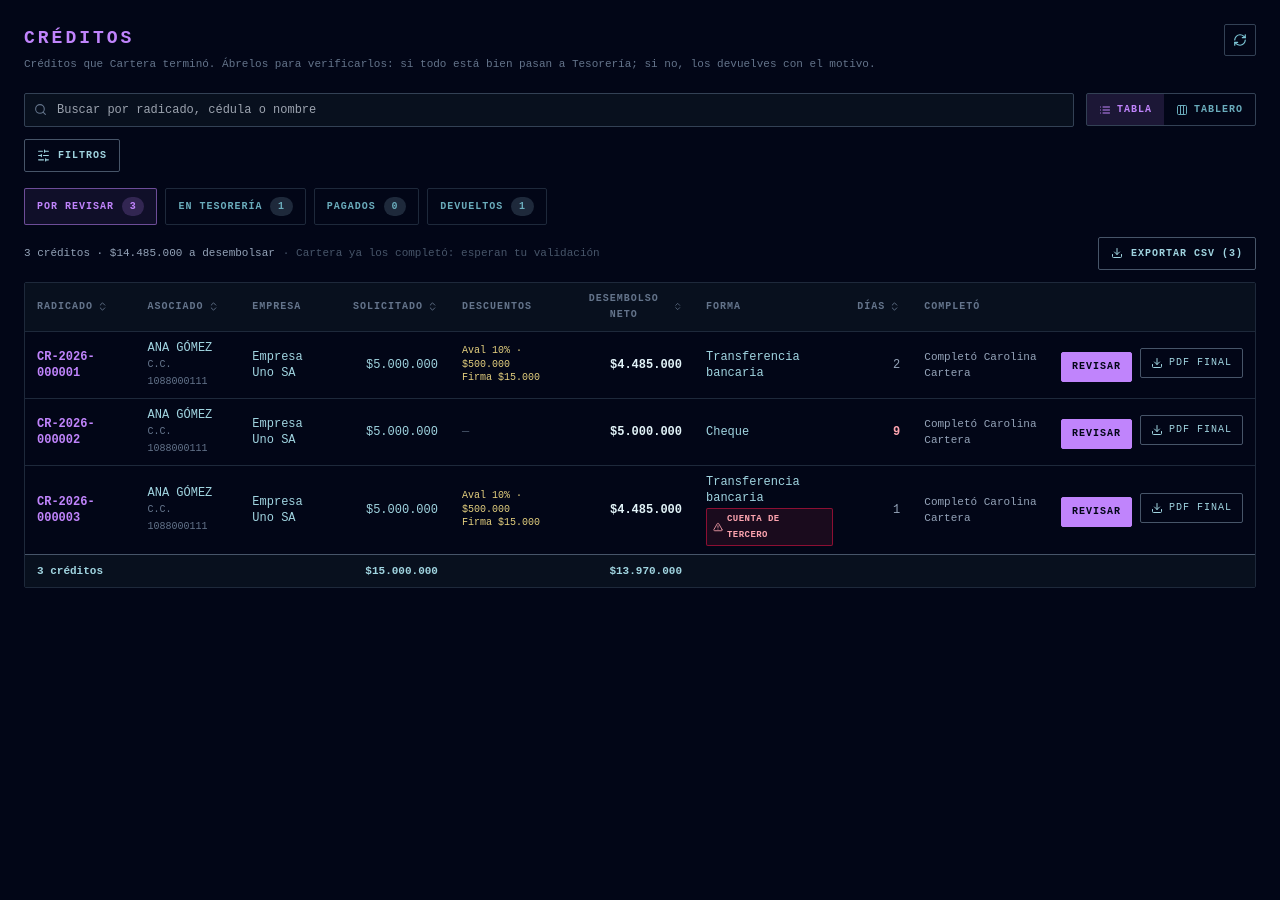
Test: Control Interno — bandeja: búsqueda y filtros › ofrece asesor y "días en Control Interno", pero no estado ni "requiere mi acción"
Expected: the link "CR-2026-000001" is shown, [37,350,95,380]
Click the button "FILTROS".
click(72, 155)  # box [24,138,120,172]
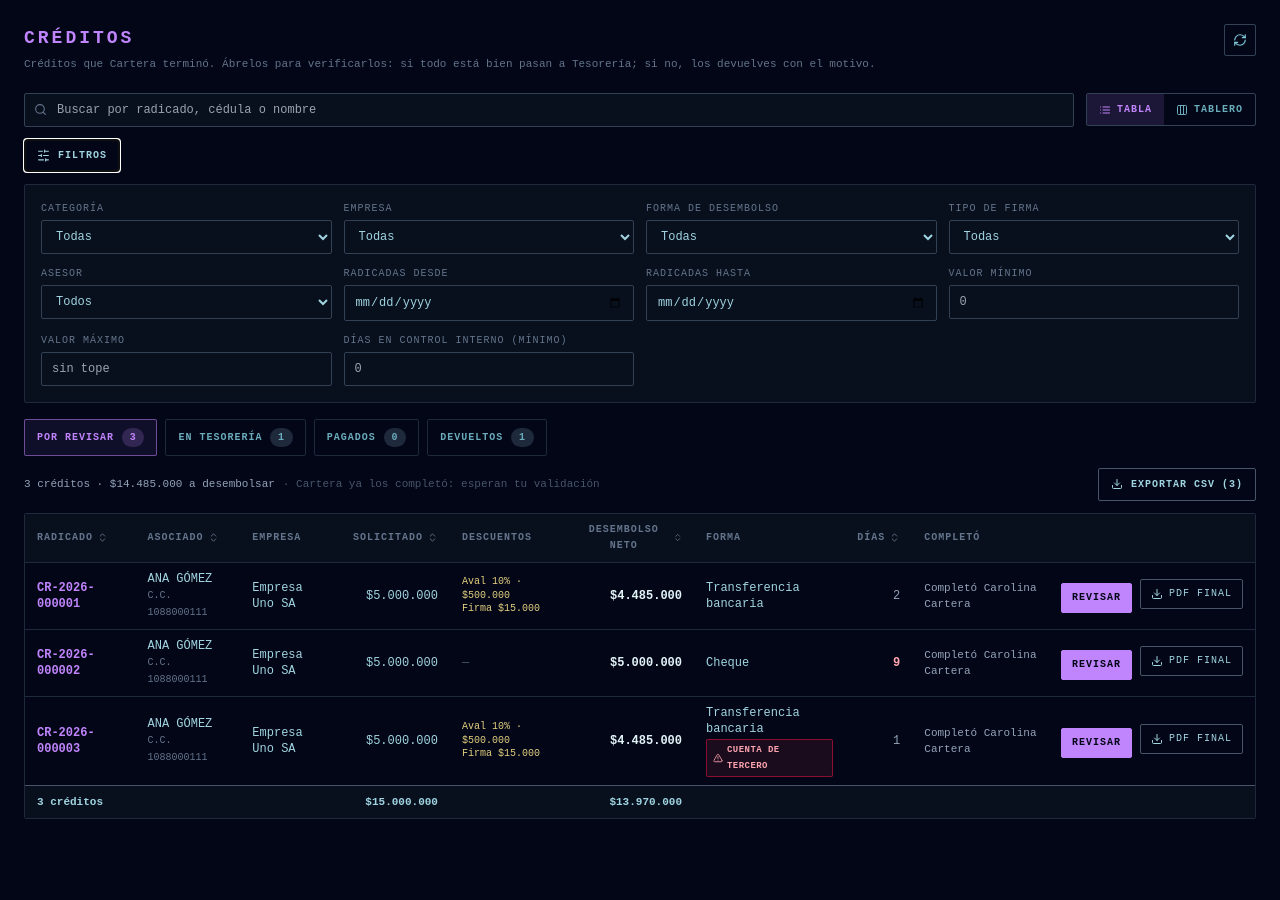
Now the dropdown labelled "ASESOR" is shown, box [41,284,332,318]
Now the field labelled "DÍAS EN CONTROL INTERNO (MÍNIMO)" is shown, box [344,352,634,386]
